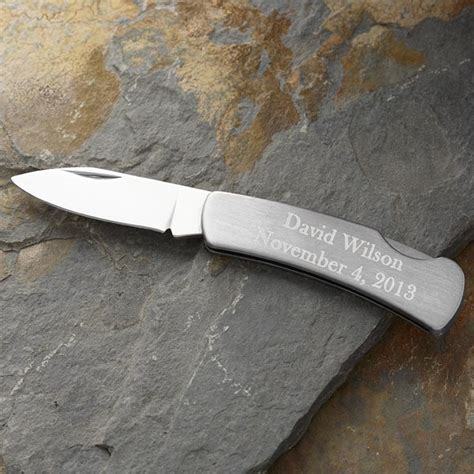knife: (7, 164, 469, 335)
